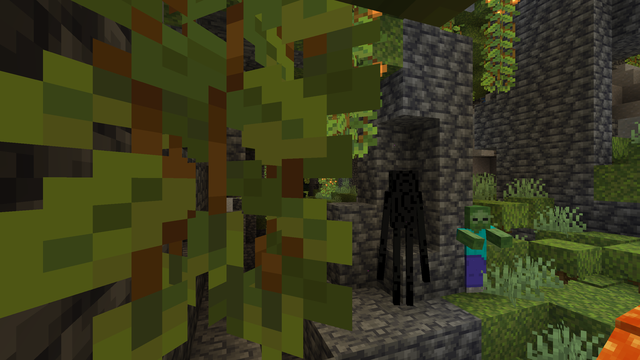endermens: (382, 165, 423, 312)
zombies: (461, 206, 493, 297)
